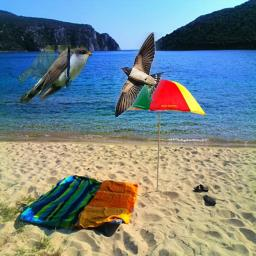Cuckoo: (17, 45, 92, 103)
Swallow: (115, 32, 173, 118)
